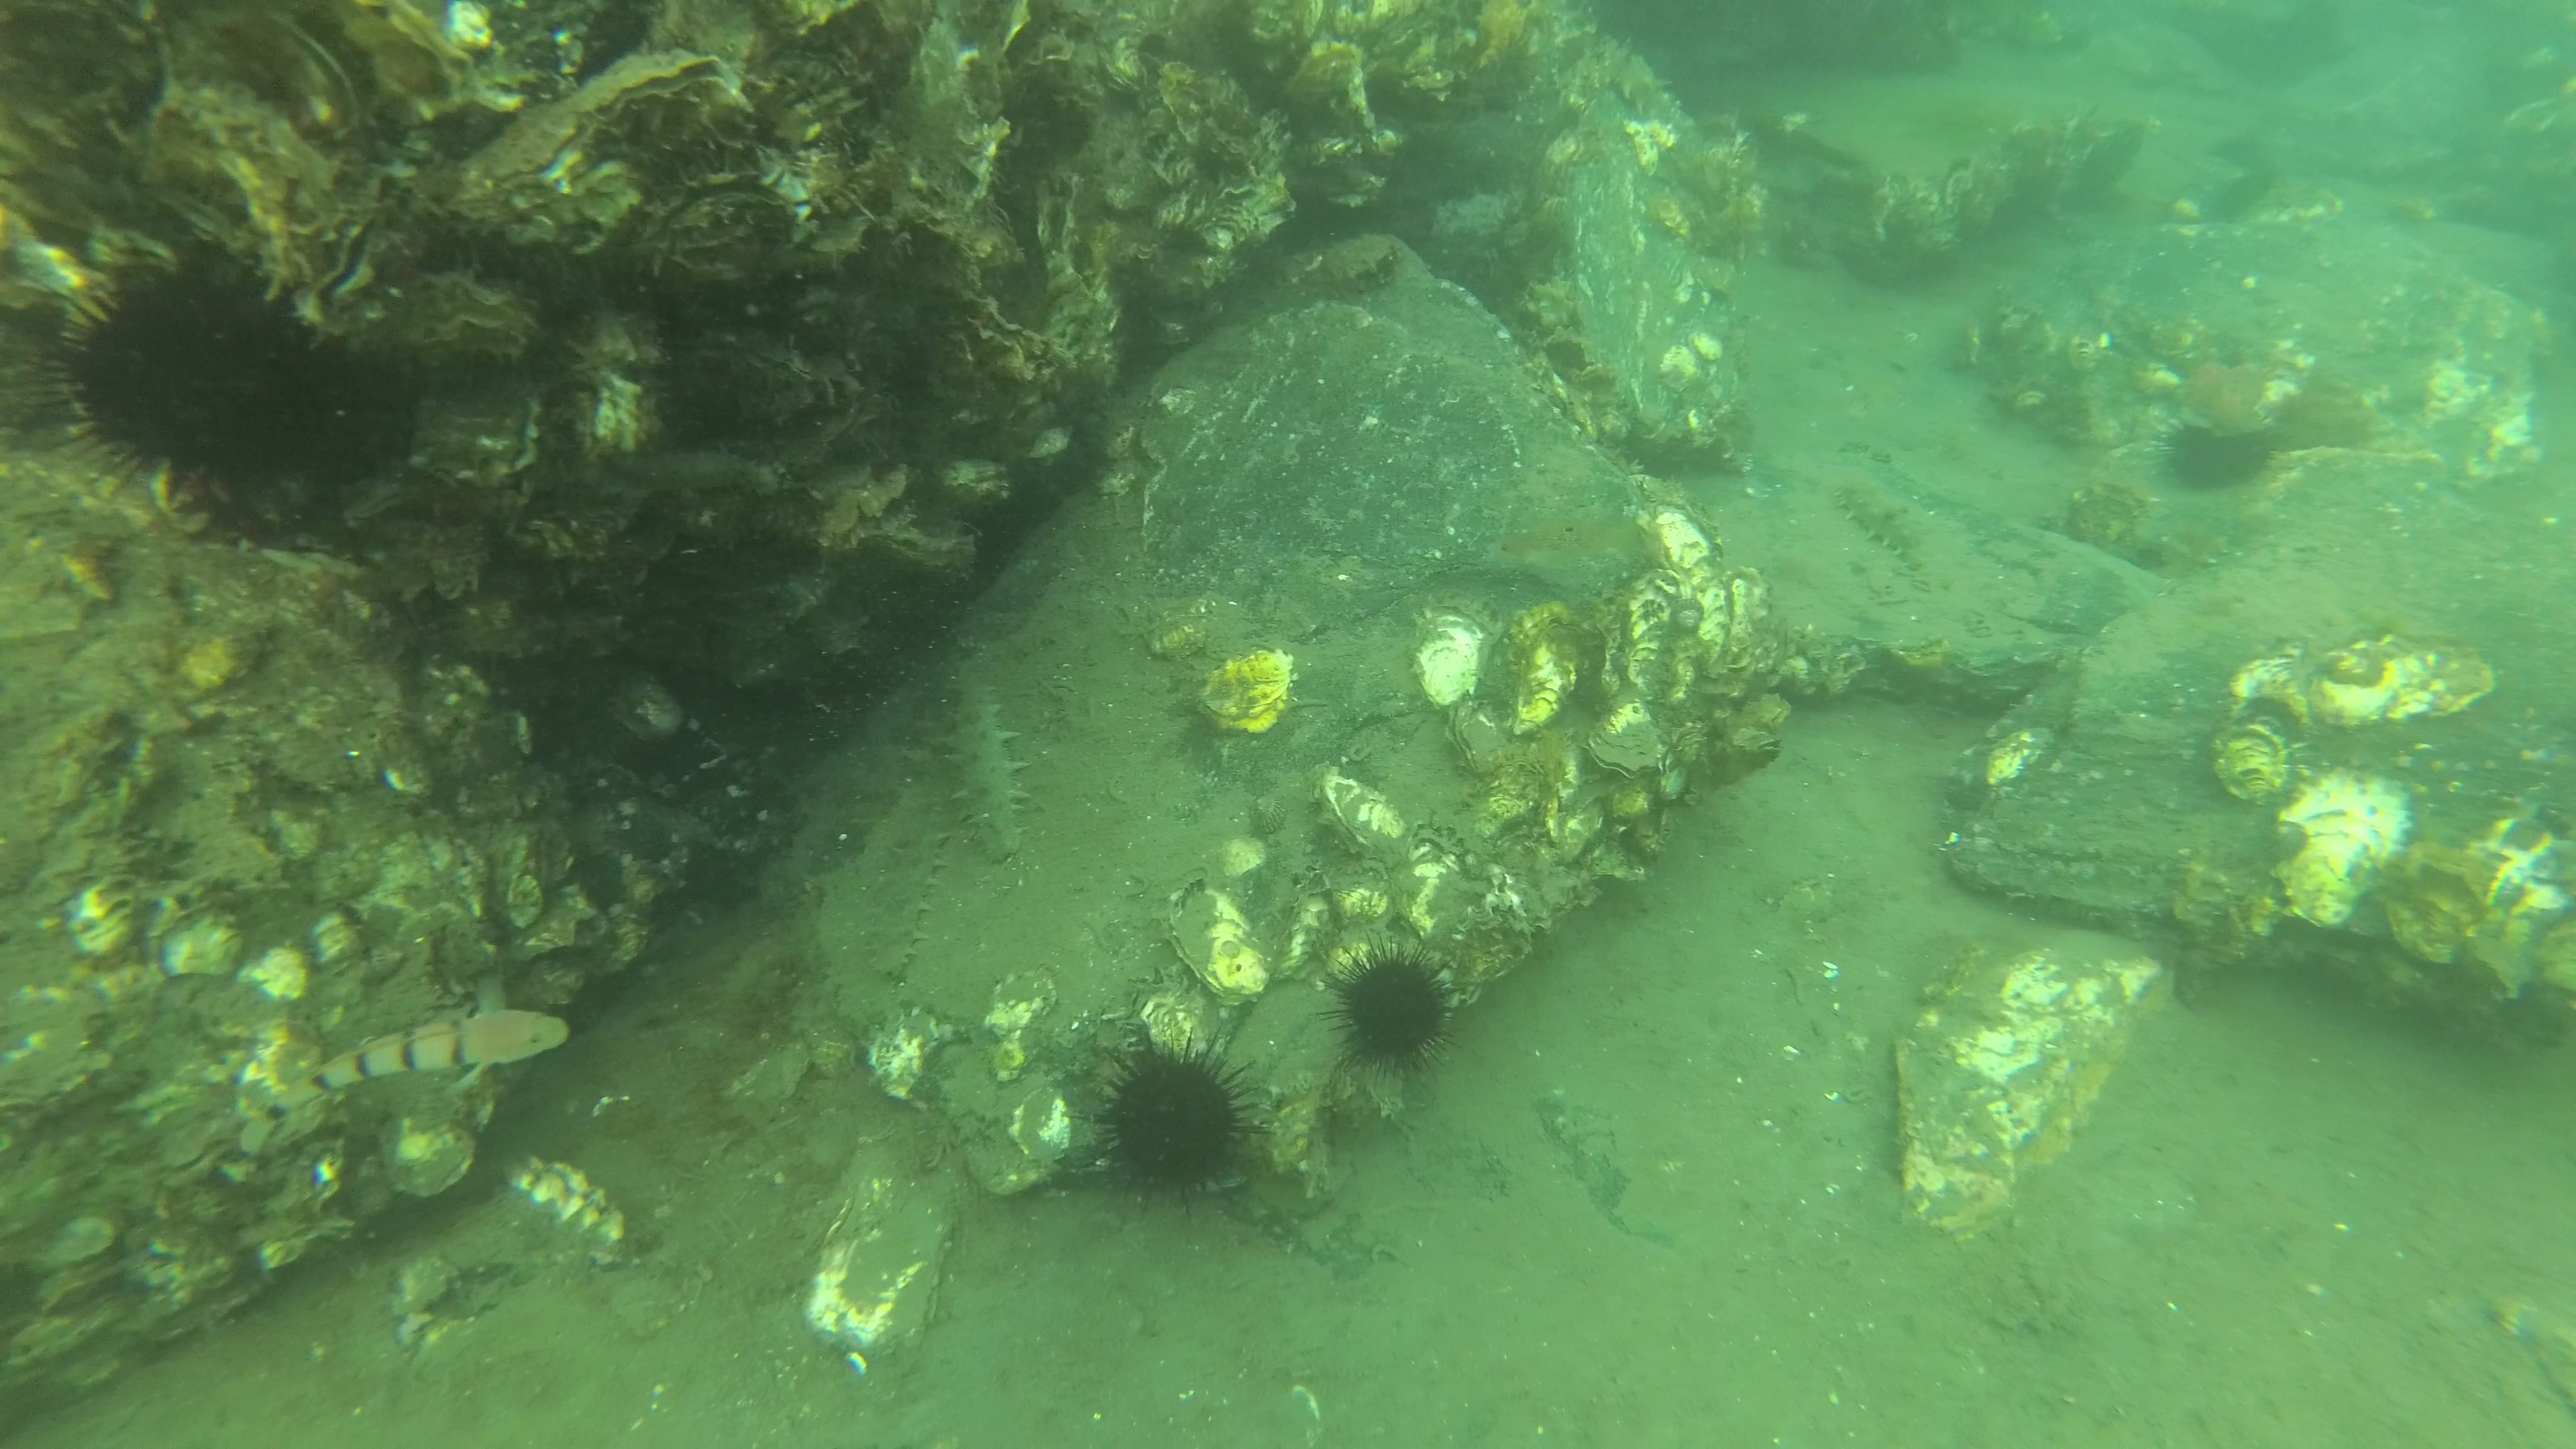echinus: (12, 237, 426, 541), (1069, 1028, 1277, 1208), (1320, 925, 1479, 1085), (2150, 384, 2289, 502)
holothurian: (920, 656, 1035, 865), (860, 839, 936, 994)
starfish: (2171, 347, 2282, 441)
